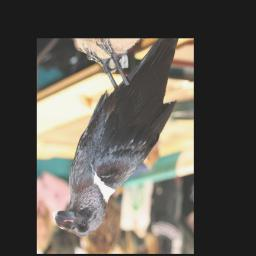Crow: (52, 39, 179, 238)
